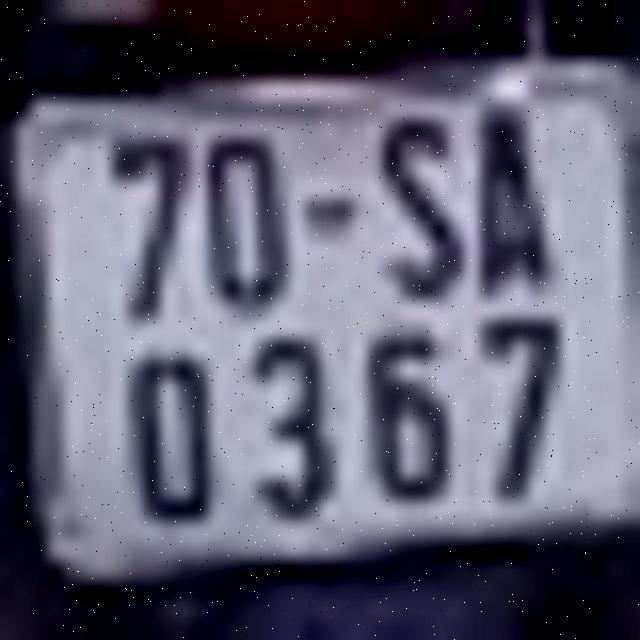0: (126, 343, 216, 524), (204, 129, 290, 314)
3: (246, 328, 336, 523)
6: (368, 321, 454, 504)
7: (475, 309, 565, 505), (103, 129, 192, 324)
A: (473, 96, 557, 304)
S: (375, 106, 466, 299)
